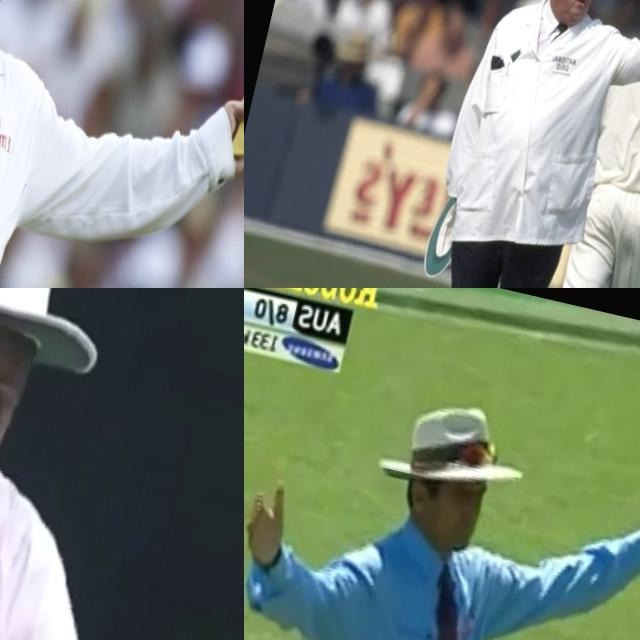No_Action: (0, 288, 187, 640)
Out: (374, 0, 640, 288)
Wide: (244, 355, 640, 640), (0, 0, 244, 288)
